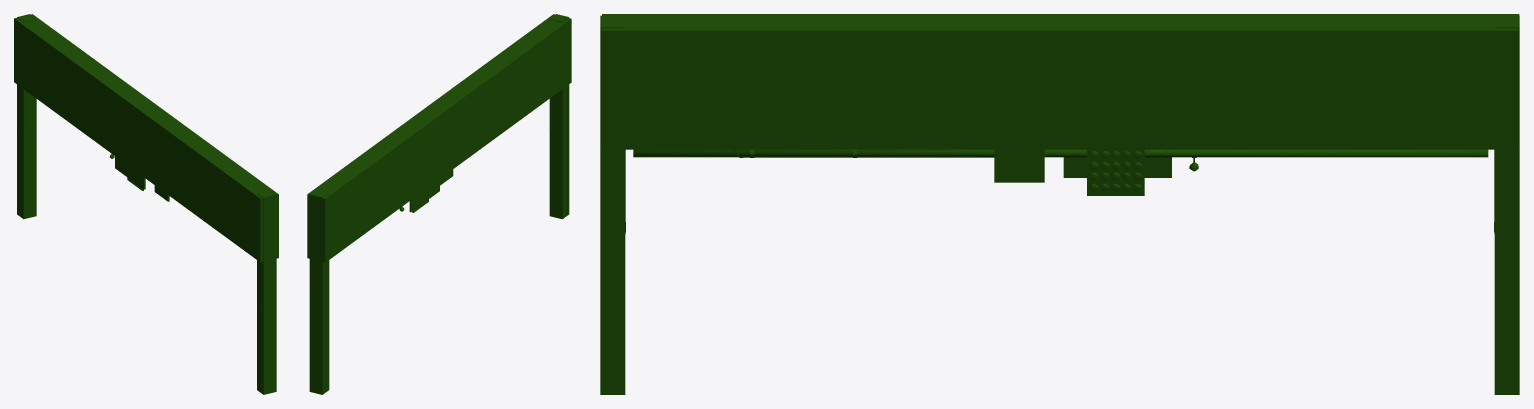
Rendered from T2_BillboardStart.fbx.
3 renders of one model, left to right at view 1: azimuth 30°, elevation 25°; view 2: azimuth 150°, elevation 25°; view 3: azimuth 270°, elevation 25°, orthographic. The views are drawn at different scales.
Parts seen in each view (by area): view 1: T2_BillboardStart; view 2: T2_BillboardStart; view 3: T2_BillboardStart.
Boxes of the visible parts, box(x1,y1,x2,y2) form: T2_BillboardStart: box(14, 14, 278, 394); T2_BillboardStart: box(307, 14, 571, 394); T2_BillboardStart: box(600, 14, 1519, 394).
Size of the model in its own units: 0.4445 by 4.57 by 10.37.
